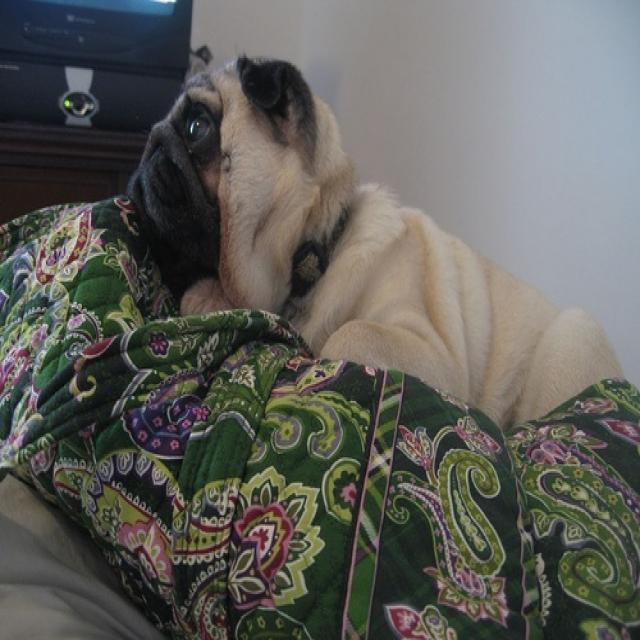dog: (129, 48, 626, 428)
